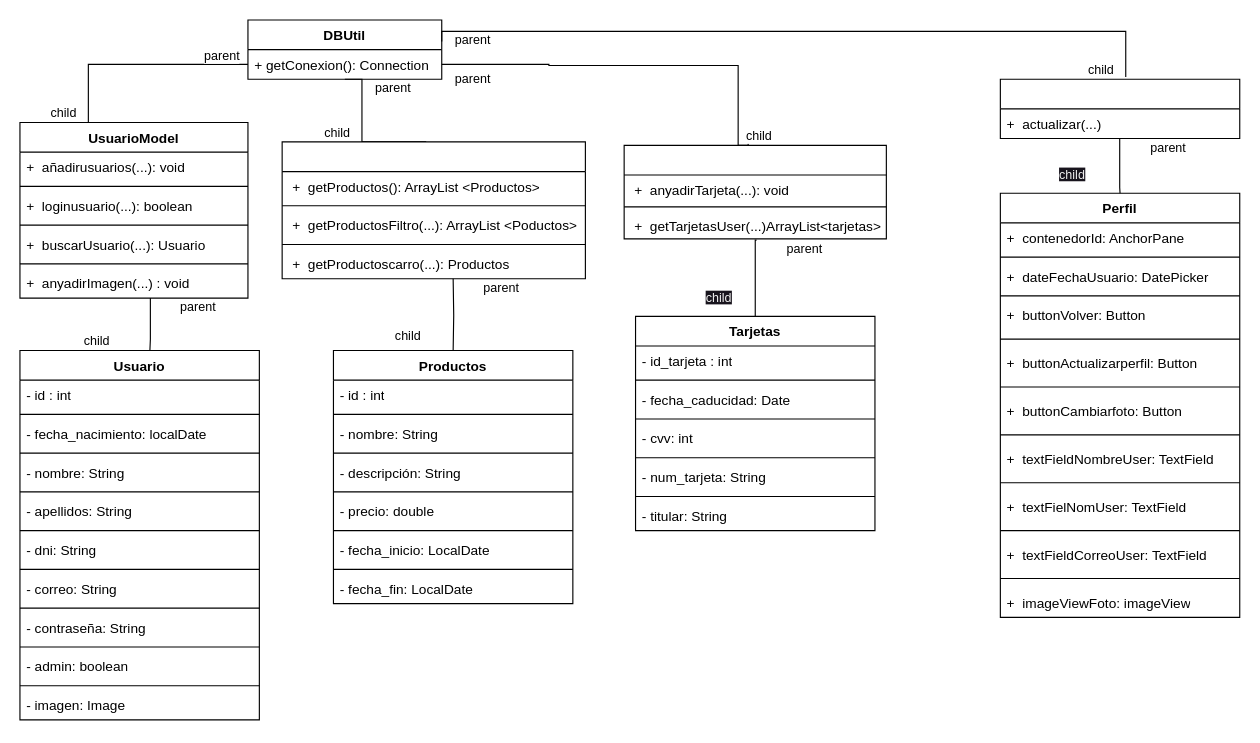
Some shapes in this 1260 by 743 pixel diagram are drawn without their labels. The box of each missing label's shape, as (x1, y1, x2, y2) in pixels:
PerfilModel: (999, 78, 1240, 139)
ProductosModel: (281, 141, 585, 279)
TarjetasModel: (623, 144, 886, 239)
